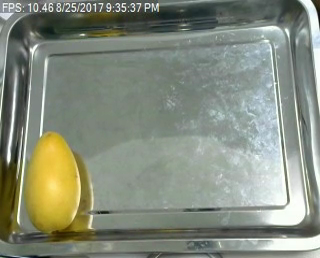Mango: (21, 128, 85, 232)
